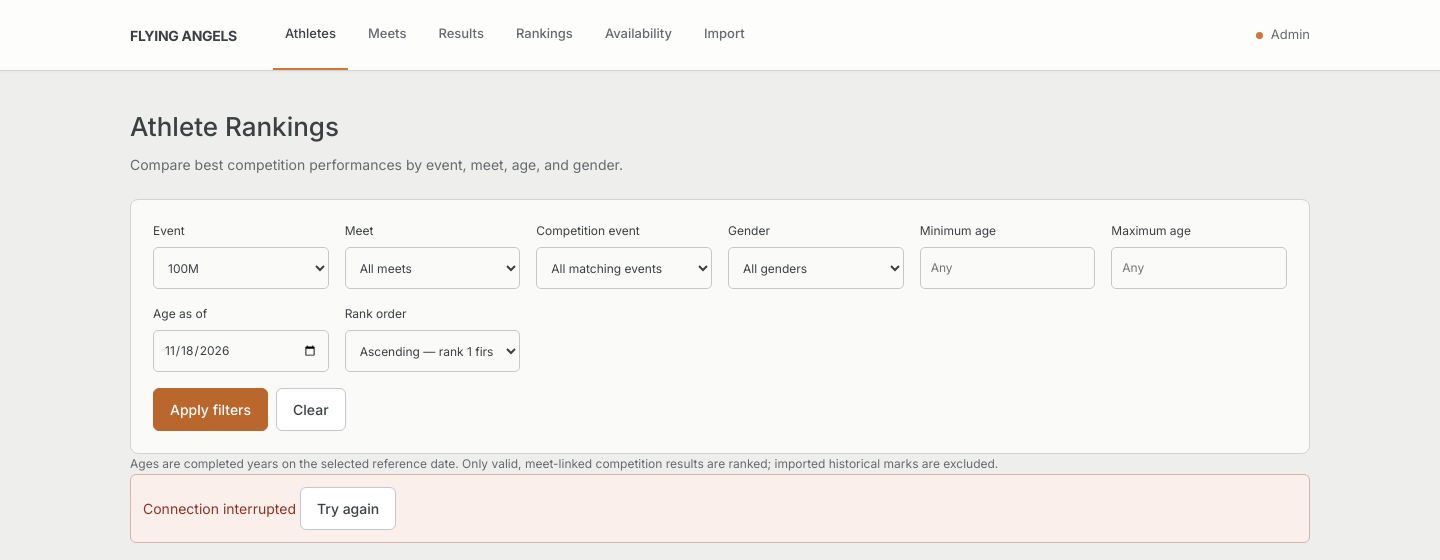
Test: retries ranking failures and distinguishes filtered empty results
Expected: the message shows "Connection interrupted", [143, 500, 296, 517]
Click the button "Try again" at (348, 508), box [300, 487, 396, 530]
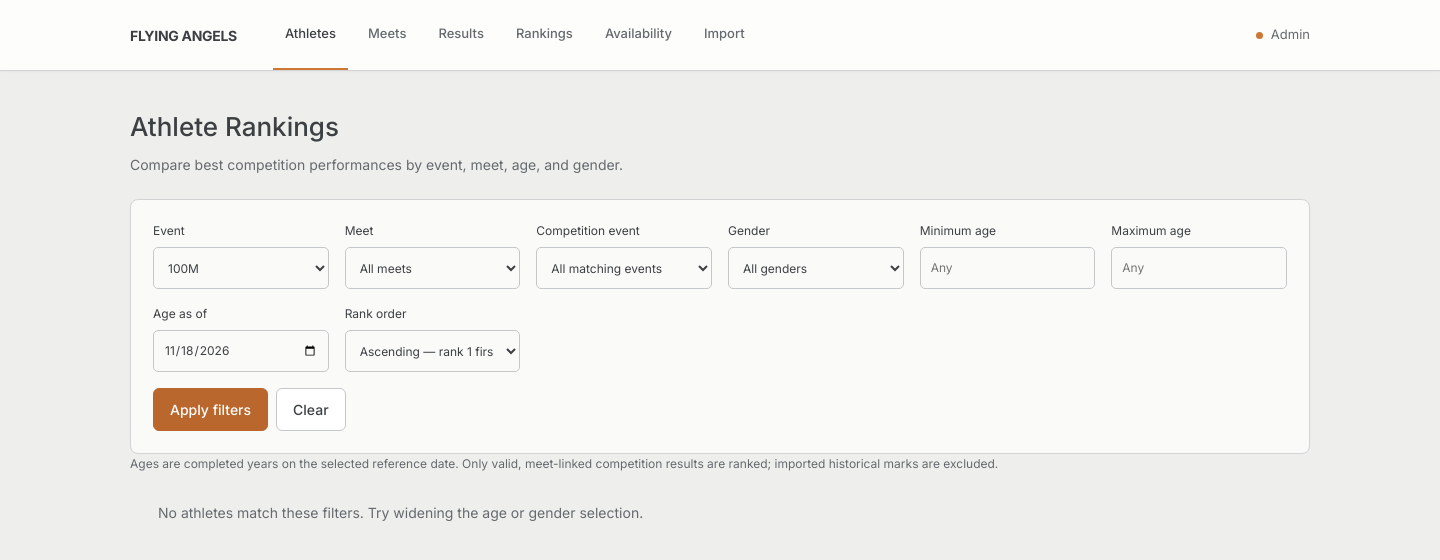
Expected: the text "No athletes match these filters" is shown, [158, 504, 643, 521]
